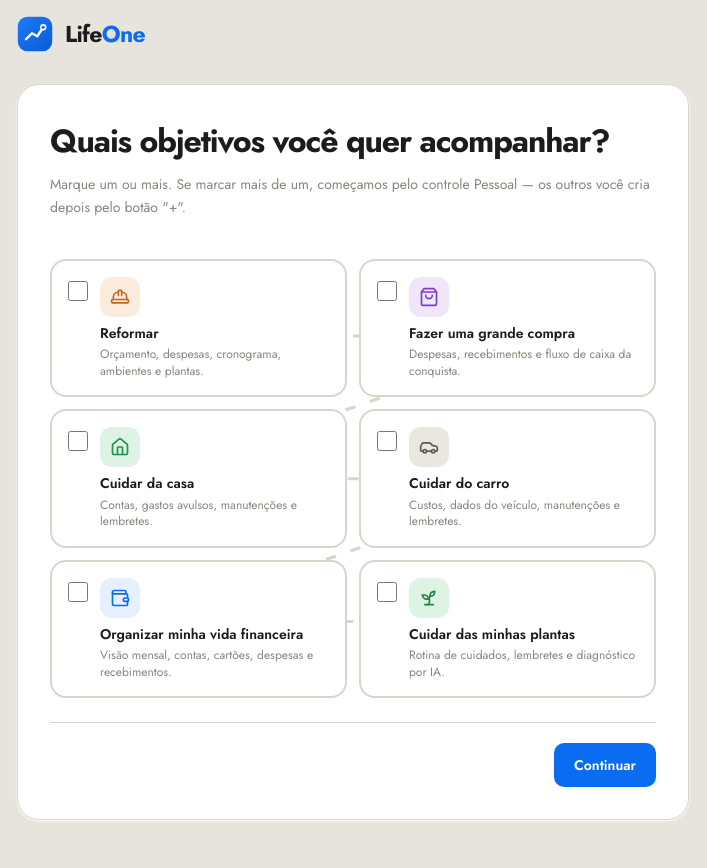
Scenario: /onboarding/objetivos › PATCH fails -> does not navigate, shows error, button becomes usable again
Click the checkbox labelled "Cuidar do carro" at (387, 441), box left=377, top=431, right=397, bottom=451
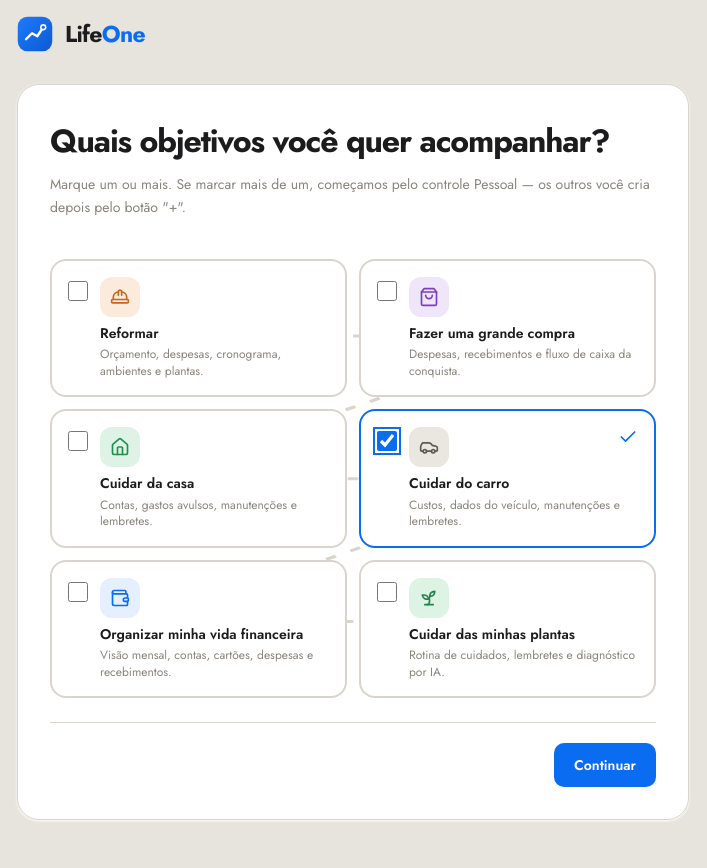
Click the button "Continuar" at (605, 765), box left=554, top=743, right=656, bottom=787
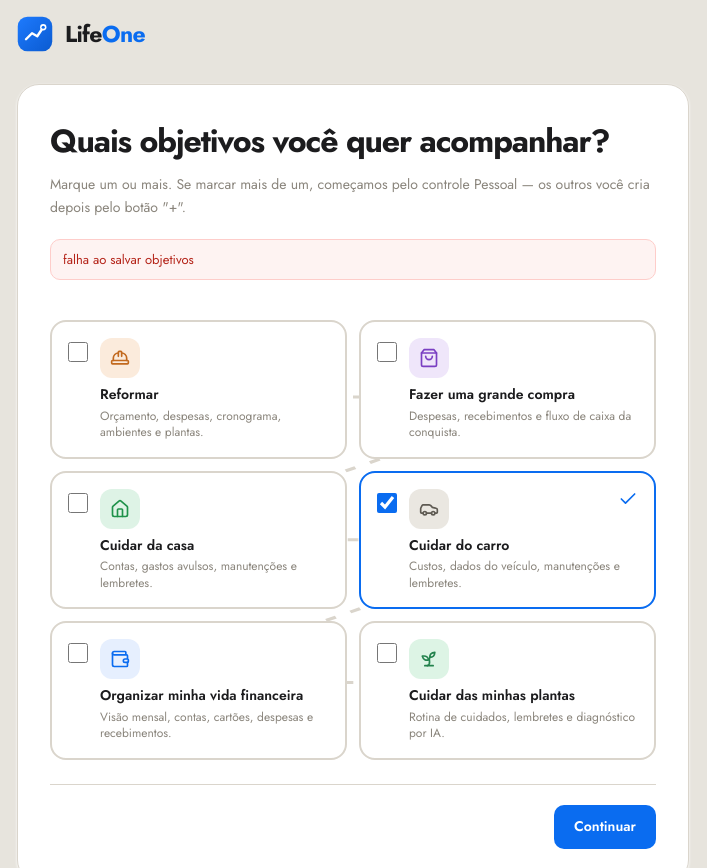
Expected: the button "Continuar" is enabled, left=554, top=804, right=656, bottom=848
Expected: the text "falha ao salvar objetivos" is shown, left=50, top=238, right=656, bottom=280
